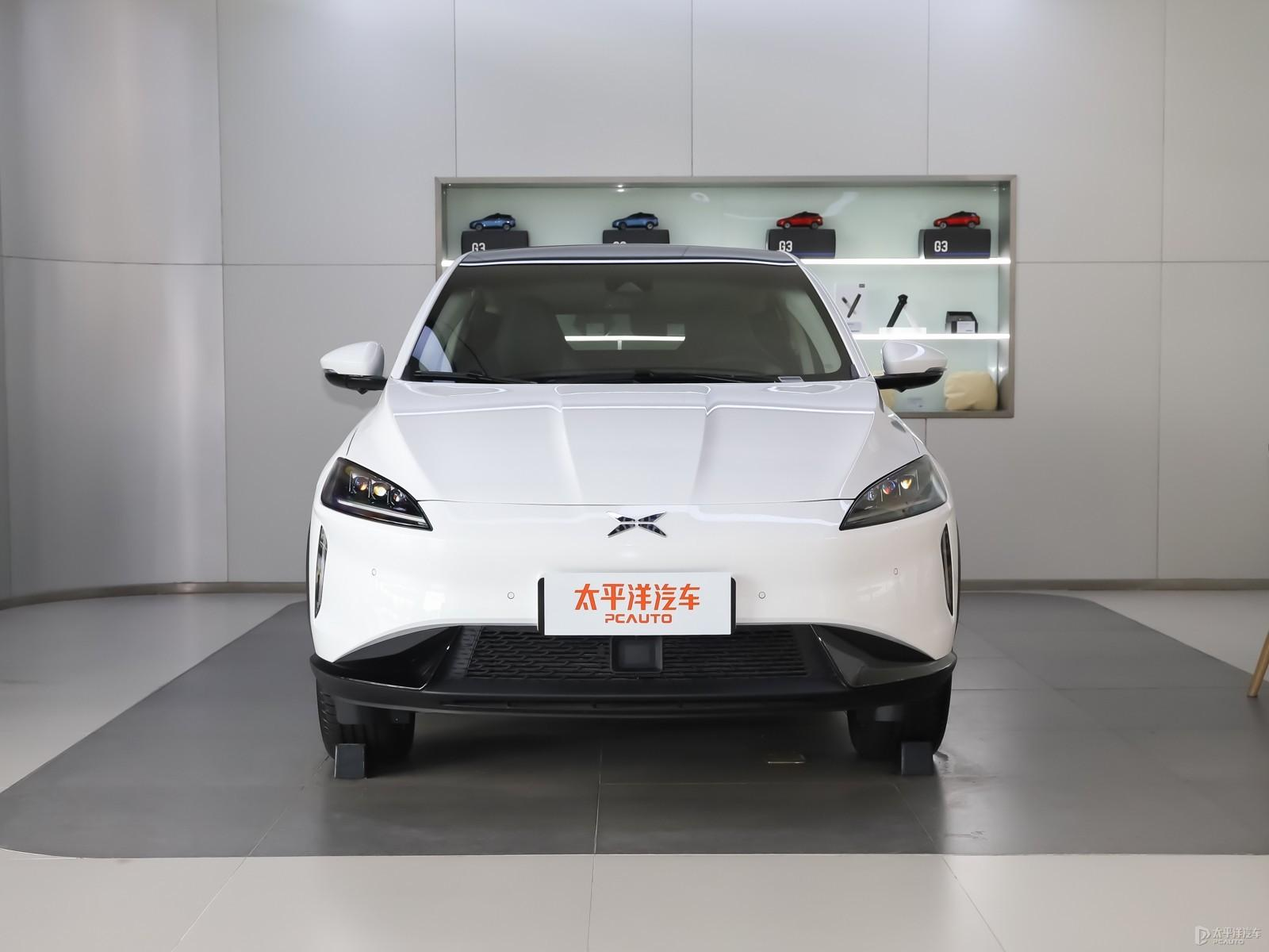XPeng Motors: (605, 511, 667, 538)
